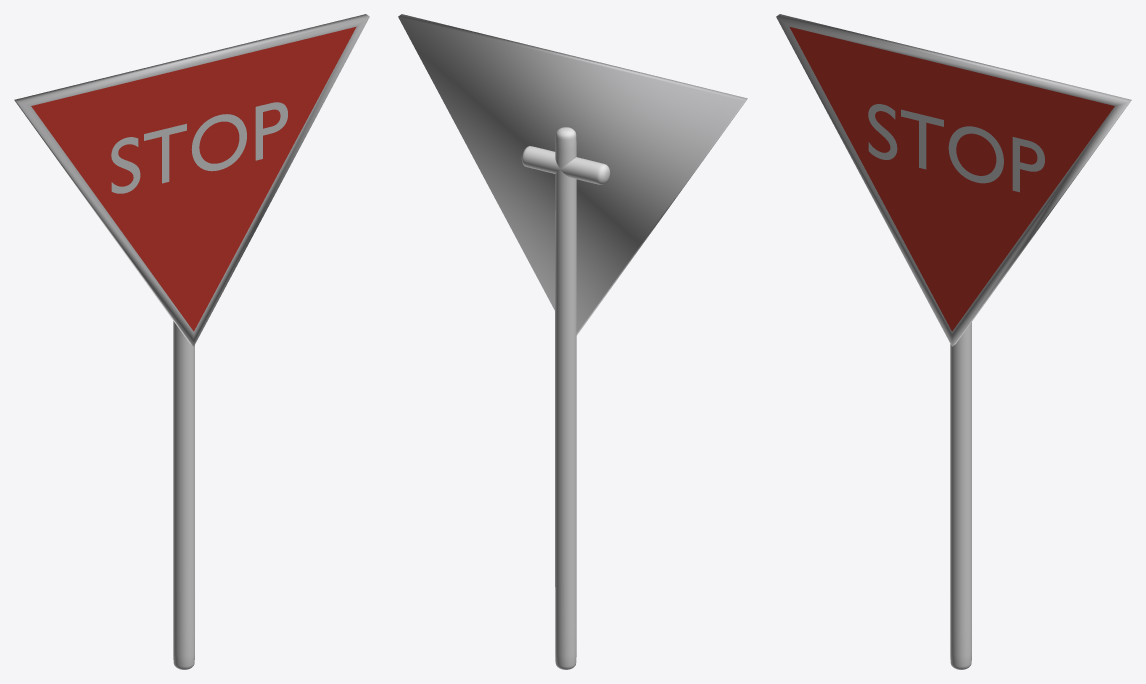
File: Stop_Sign.fbx
3 views of the same model, side by side, from view 1: azimuth 30°, elevation 25°; view 2: azimuth 150°, elevation 25°; view 3: azimuth 330°, elevation 25° (orthographic).
Parts seen in each view (by area): view 1: Sign, Pole.006; view 2: Sign, Pole.006; view 3: Sign, Pole.006.
Part boxes in pixels (x1,y1,x2,y2): Sign: (14, 14, 369, 346); Pole.006: (173, 321, 194, 669); Sign: (398, 14, 747, 335); Pole.006: (521, 127, 610, 669); Sign: (776, 14, 1131, 346); Pole.006: (950, 322, 971, 669).
Bounding box in the file's own units: 174 × 291 × 13.32.
